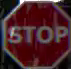Stop: (3, 0, 70, 67)
